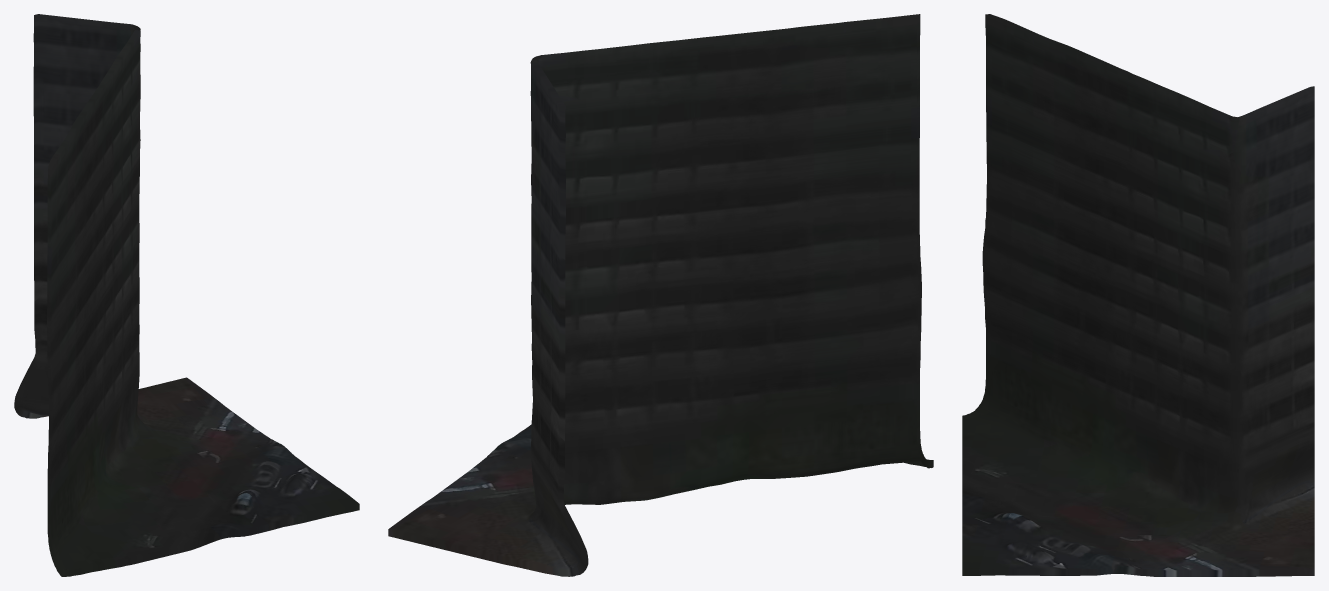
File: z20-167777-405235-h0-yup-uvflip-v3-world.glb
3 renders of one model, left to right at view 1: azimuth 30°, elevation 25°; view 2: azimuth 150°, elevation 25°; view 3: azimuth 270°, elevation 25°, orthographic. The views are drawn at different scales.
Bounding box in the file's own units: 30.16 × 39.36 × 30.32.
1 material, 1 textured.
